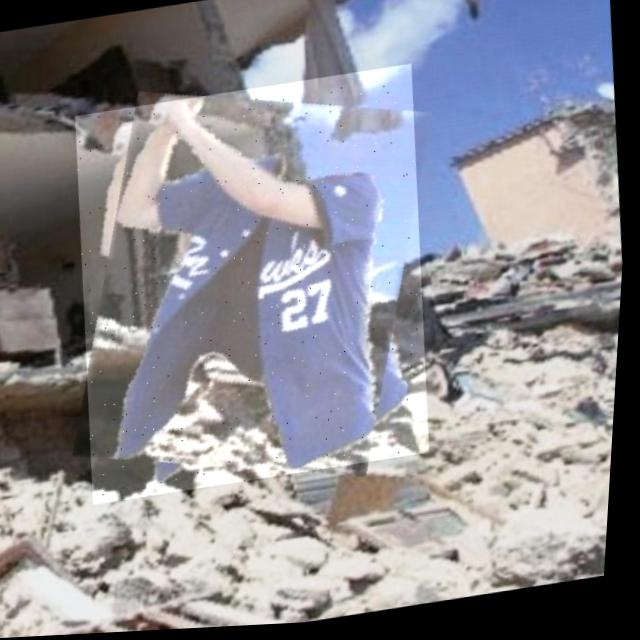Person in Rubble: (58, 66, 453, 507)
